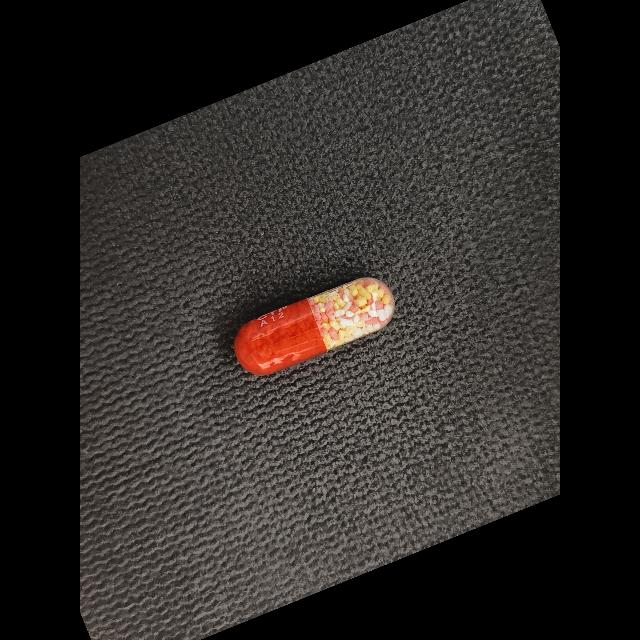Intact Capsule: (235, 278, 394, 375)
